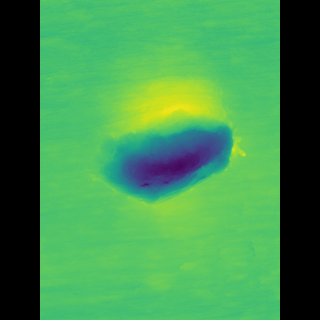Loch: (101, 103, 228, 214)
